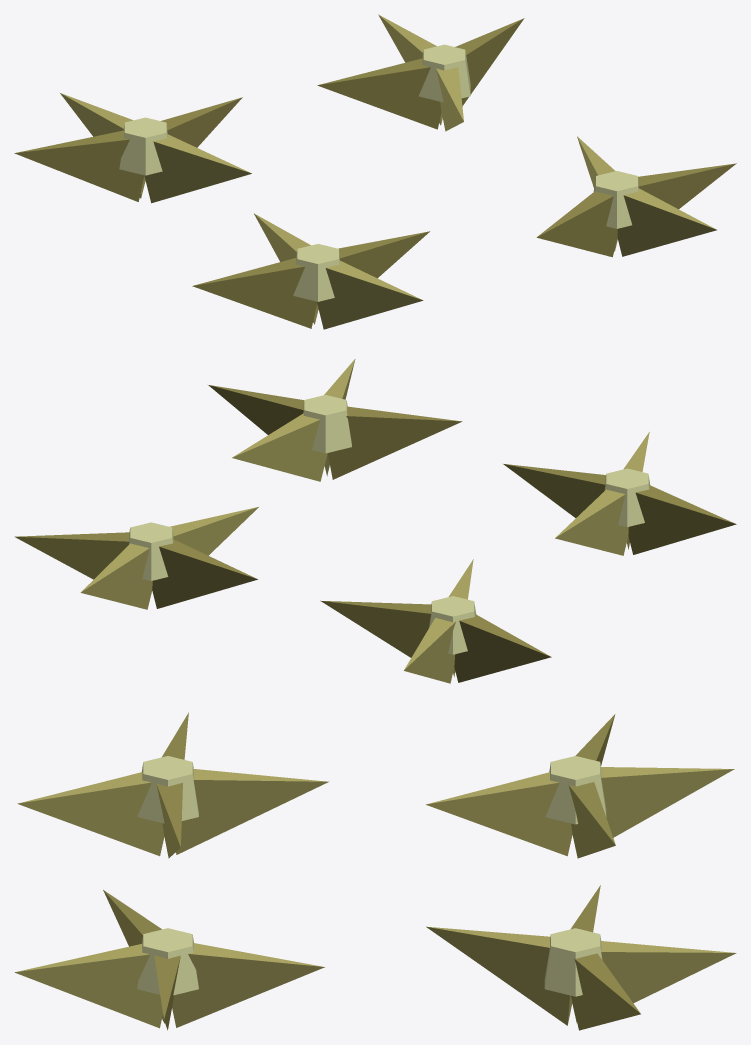
File: lettuce-harvested.glb
3 views of the same model, one above another, from view 1: azimuth 30°, elevation 25°; view 2: azimuth 150°, elevation 25°; view 3: azimuth 270°, elevation 25° (orthographic). The views are drawn at different scales.
Parts seen in each view (by area): view 1: lettuce-harvested; view 2: lettuce-harvested; view 3: lettuce-harvested.
Part boxes in pixels (bbox=[...]): lettuce-harvested: bbox=[14, 14, 736, 329]; lettuce-harvested: bbox=[14, 359, 736, 683]; lettuce-harvested: bbox=[14, 712, 736, 1030].
Bounding box in the file's own units: 0.7155 × 0.0944 × 0.7096.
Materials: 1 (1 with a texture image).
